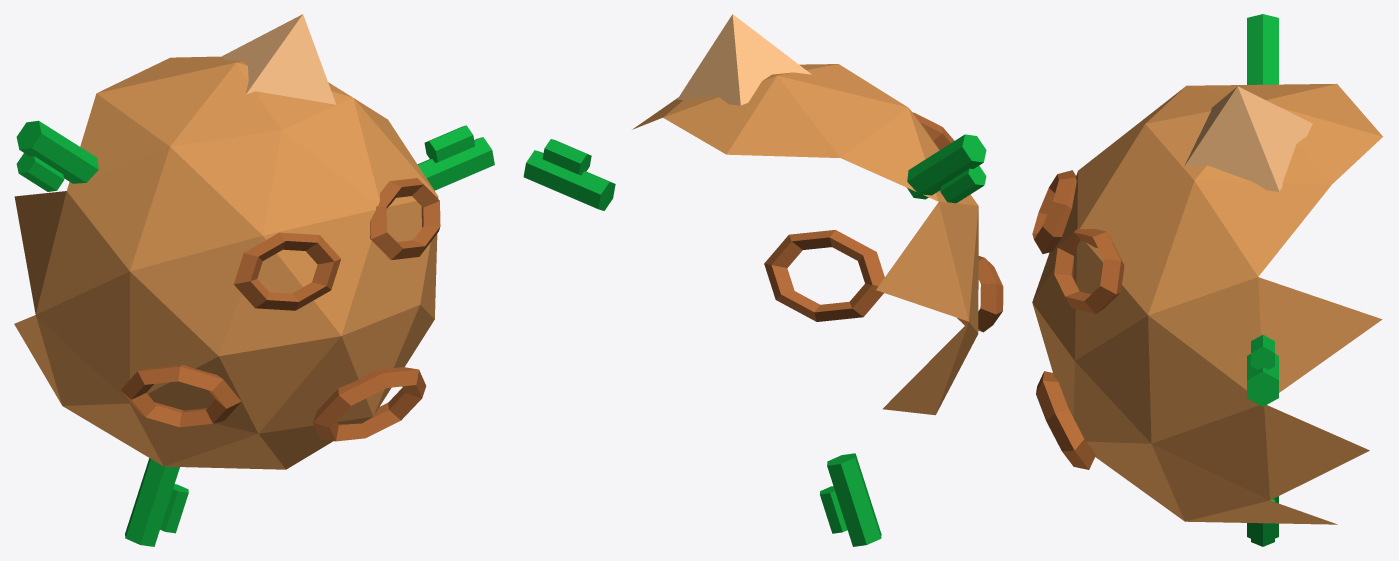
The model's file is dune.glb.
3 renders of one model, left to right at view 1: azimuth 30°, elevation 25°; view 2: azimuth 150°, elevation 25°; view 3: azimuth 270°, elevation 25°, orthographic. The views are drawn at different scales.
Visible parts, largest first — view 1: Dune, Pyramid, Crater2, Crater3, Crater1, Crater0, Cactus1, Cactus2, Cactus0, Arm0, Arm1, Arm2; view 2: Dune, Pyramid, Crater2, Cactus2, Cactus1, Cactus0, Crater1, Arm0, Arm1, Arm2; view 3: Dune, Pyramid, Crater0, Crater2, Crater3, Cactus1, Cactus0, Arm0, Arm2.
Part boxes in pixels (left/top/right/bottom): Dune: left=14, top=56, right=438, bottom=469; Pyramid: left=223, top=14, right=336, bottom=104; Crater2: left=313, top=367, right=426, bottom=441; Crater3: left=233, top=232, right=340, bottom=310; Crater1: left=120, top=364, right=241, bottom=427; Crater0: left=370, top=178, right=440, bottom=259; Cactus1: left=16, top=120, right=98, bottom=183; Cactus2: left=125, top=458, right=179, bottom=546; Cactus0: left=417, top=137, right=494, bottom=190; Arm0: left=424, top=125, right=474, bottom=162; Arm1: left=16, top=153, right=64, bottom=191; Arm2: left=160, top=484, right=188, bottom=533; Dune: left=632, top=64, right=978, bottom=415; Pyramid: left=677, top=14, right=811, bottom=105; Crater2: left=764, top=230, right=884, bottom=321; Cactus2: left=827, top=453, right=881, bottom=546; Cactus1: left=907, top=134, right=986, bottom=199; Cactus0: left=523, top=150, right=615, bottom=210; Crater1: left=957, top=256, right=1003, bottom=332; Arm0: left=542, top=139, right=591, bottom=175; Arm1: left=940, top=165, right=986, bottom=203; Arm2: left=819, top=486, right=847, bottom=533; Dune: left=1032, top=83, right=1382, bottom=524; Pyramid: left=1184, top=86, right=1312, bottom=191; Crater0: left=1054, top=228, right=1124, bottom=313; Crater2: left=1036, top=371, right=1096, bottom=469; Crater3: left=1032, top=170, right=1076, bottom=253; Cactus1: left=1247, top=14, right=1278, bottom=84; Cactus0: left=1247, top=354, right=1278, bottom=406; Arm0: left=1251, top=335, right=1274, bottom=369; Arm2: left=1251, top=499, right=1274, bottom=546.
Bounding box in the file's own units: 3.71 × 3.8 × 2.3.
